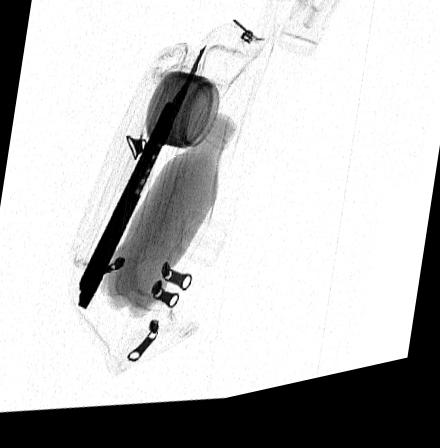Knife: (75, 52, 207, 314)
